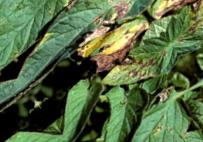Tomato leaf bacterial spot: (1, 0, 142, 97), (0, 0, 117, 67), (94, 30, 183, 112), (81, 83, 203, 142)
